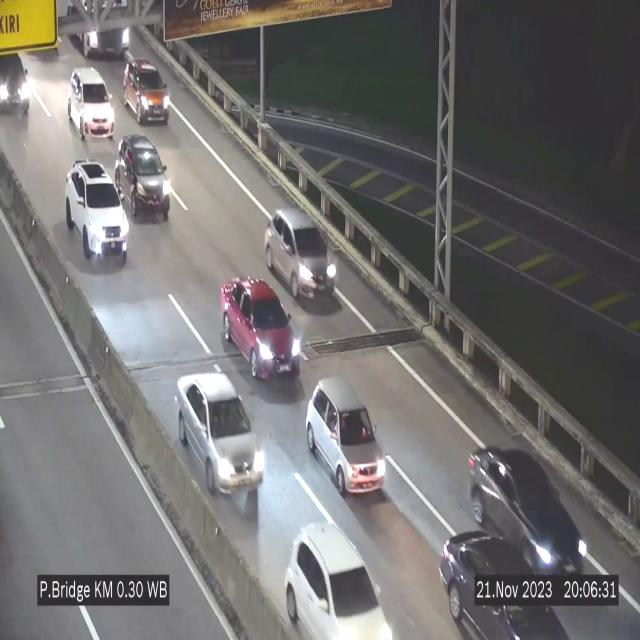Car: (469, 439, 589, 579), (438, 516, 572, 640), (280, 509, 402, 640), (177, 374, 263, 492), (306, 379, 386, 494), (219, 276, 301, 388), (264, 208, 342, 308), (65, 159, 128, 262), (114, 135, 170, 220), (68, 67, 114, 139), (122, 58, 170, 124), (0, 49, 37, 119)
Truck: (65, 0, 129, 59)
